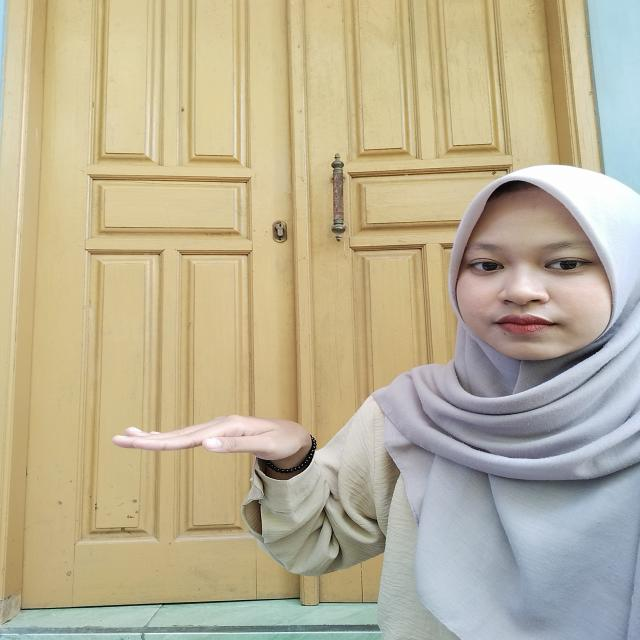adik: (96, 407, 334, 513)
